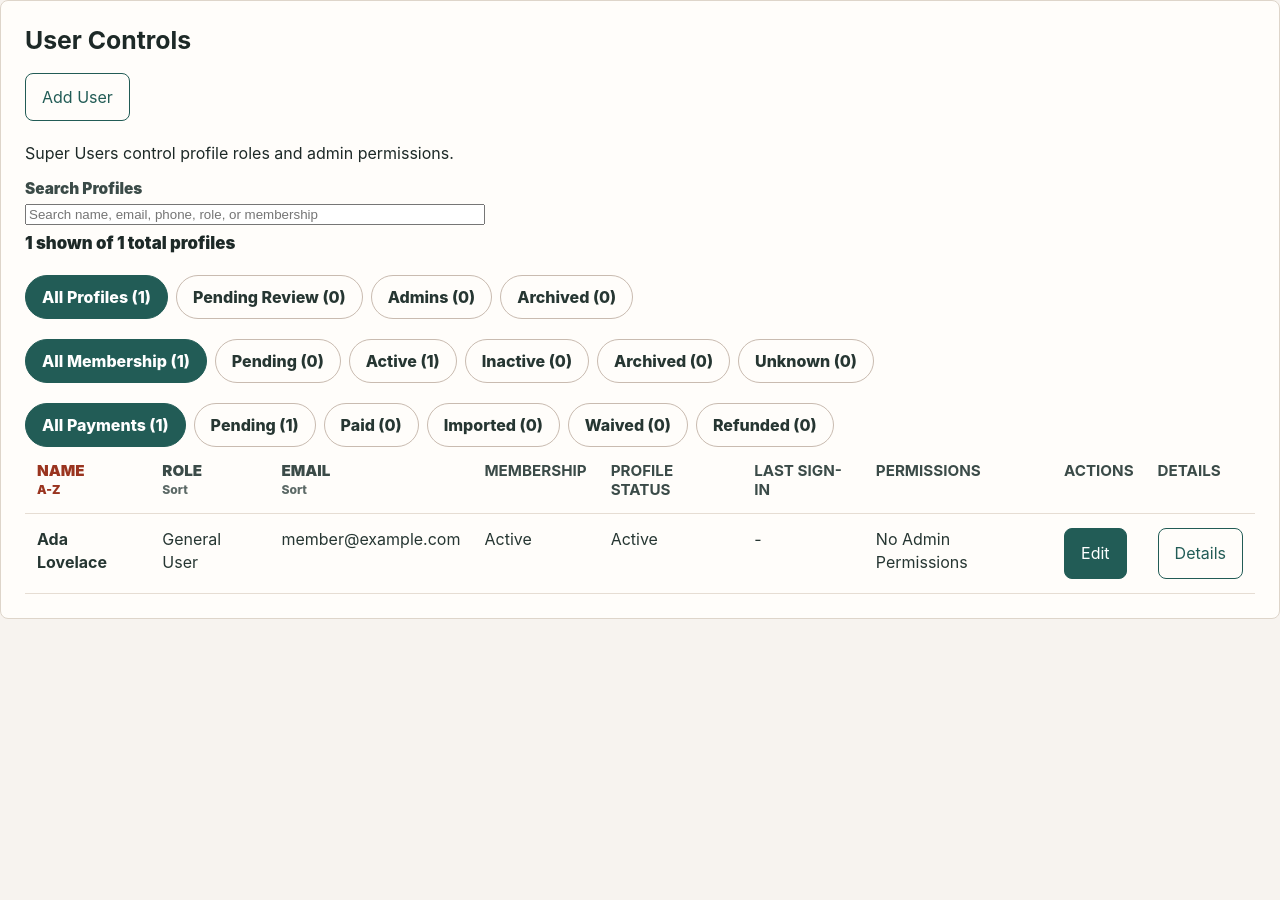
Scenario: a Super User granting admin permissions to a member › unlocks them as soon as the role is set to Admin
The image size is (1280, 900).
Step 1. Click the button "Edit" → (1095, 554), box [1064,528,1126,579]
(page scrolled)
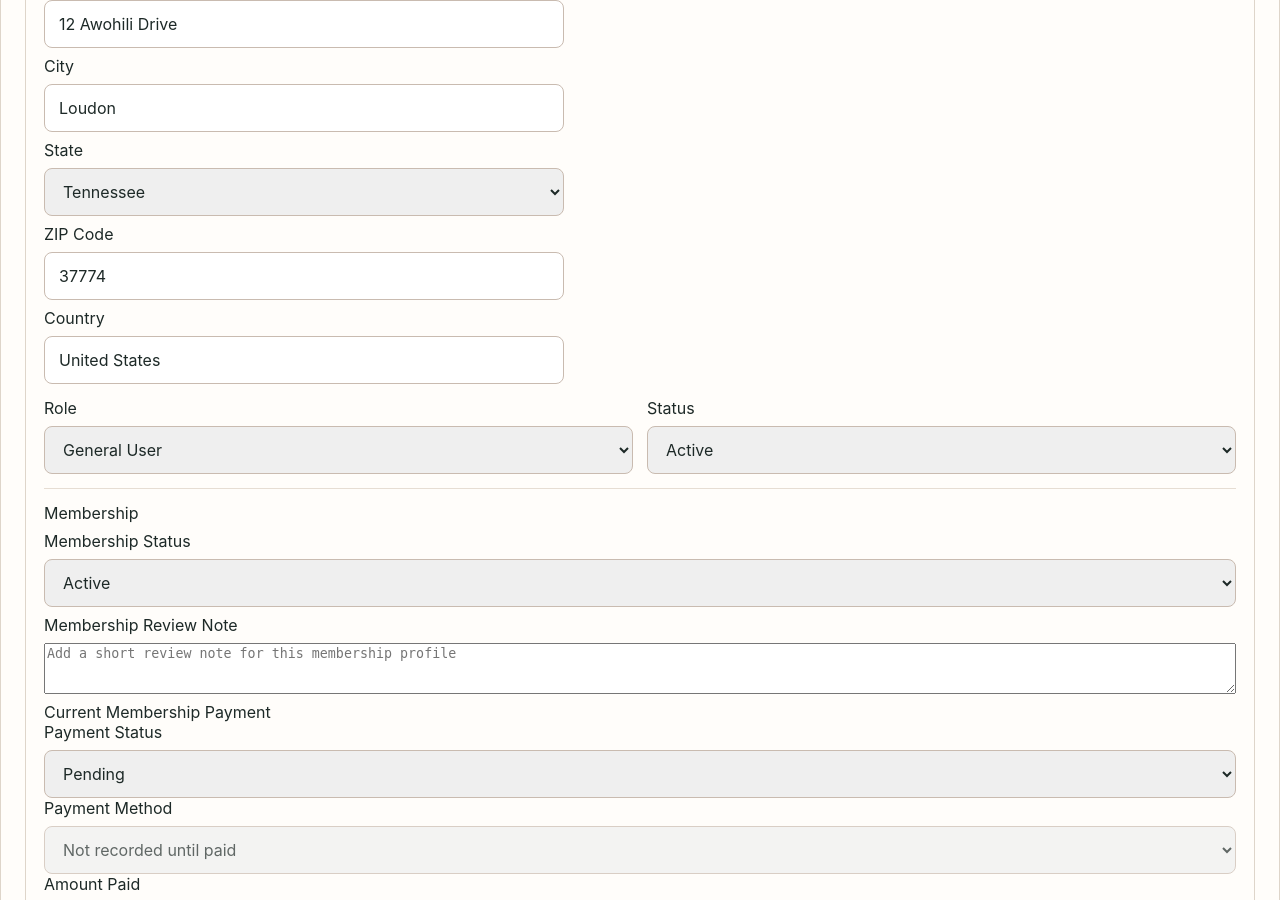
Step 2. Select "Admin" in the dropdown labelled "Role" → (338, 450), box [44,426,633,474]
(page scrolled)
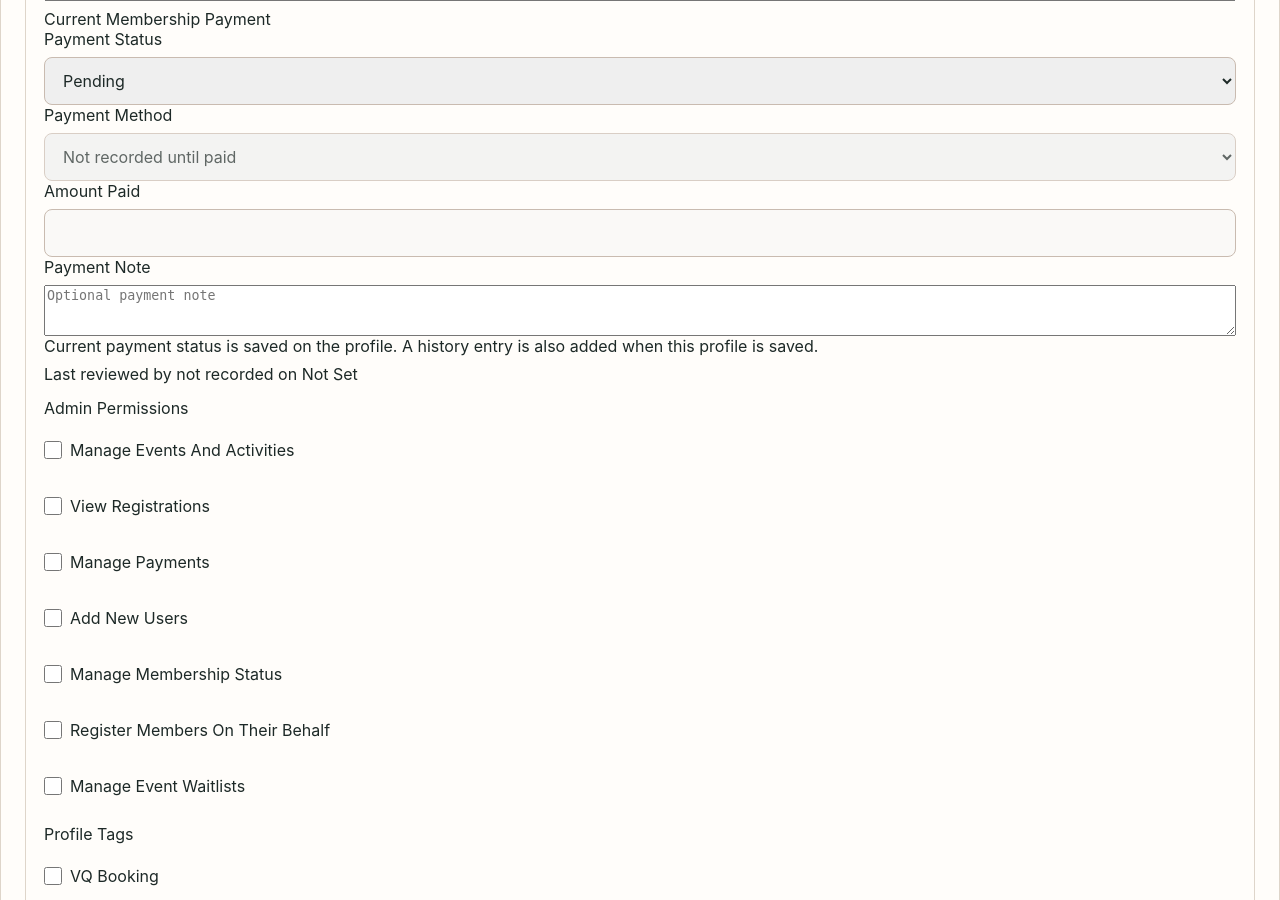
Expected: the checkbox labelled "Manage Events And Activities" is enabled, [44,426,62,474]
